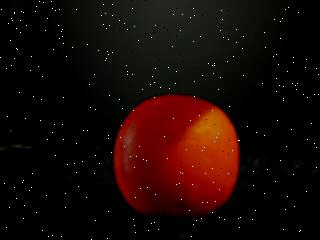Orange: (115, 92, 241, 222)
